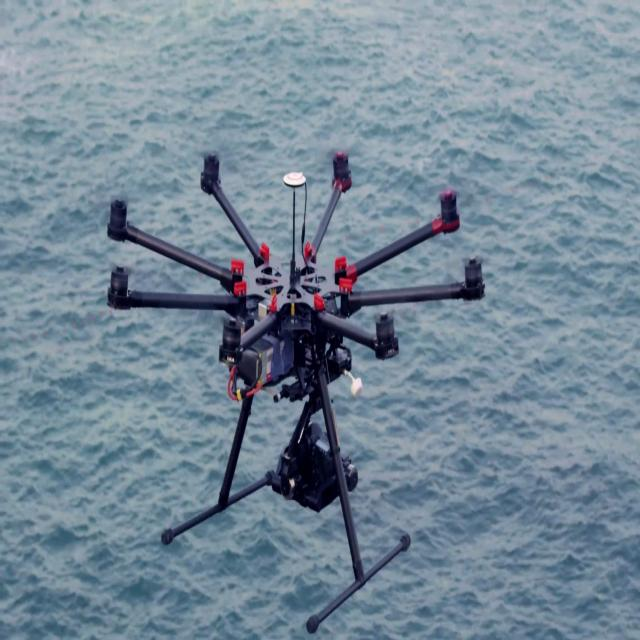drone: (100, 147, 488, 624)
